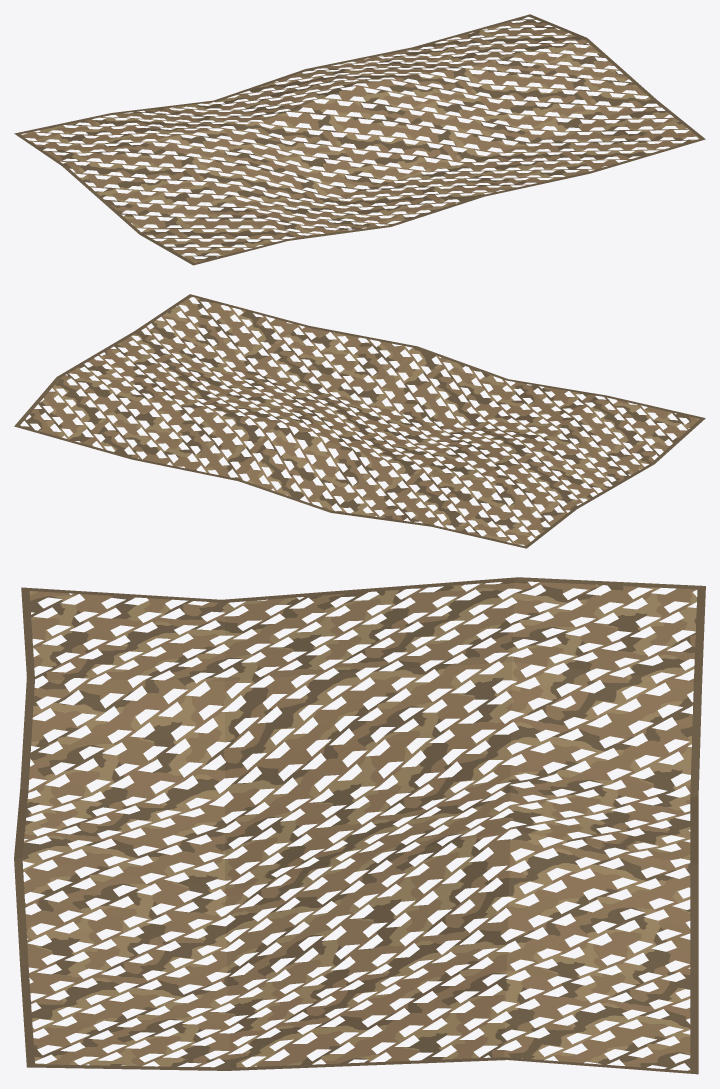
File: SM_Bld_CamoNet_Tent_06.glb
3 renders of one model, top to bottom at view 1: azimuth 30°, elevation 25°; view 2: azimuth 150°, elevation 25°; view 3: azimuth 270°, elevation 25°, orthographic. The views are drawn at different scales.
Visible parts, largest first — view 1: SM_Bld_CamoNet_Tent_06; view 2: SM_Bld_CamoNet_Tent_06; view 3: SM_Bld_CamoNet_Tent_06.
Part boxes in pixels (x1,y1,x2,y2): SM_Bld_CamoNet_Tent_06: (14, 14, 705, 265); SM_Bld_CamoNet_Tent_06: (14, 294, 705, 548); SM_Bld_CamoNet_Tent_06: (14, 577, 705, 1074).
Size of the model in its own units: 7.71 by 0.4703 by 4.63.
1 material, 1 textured.
